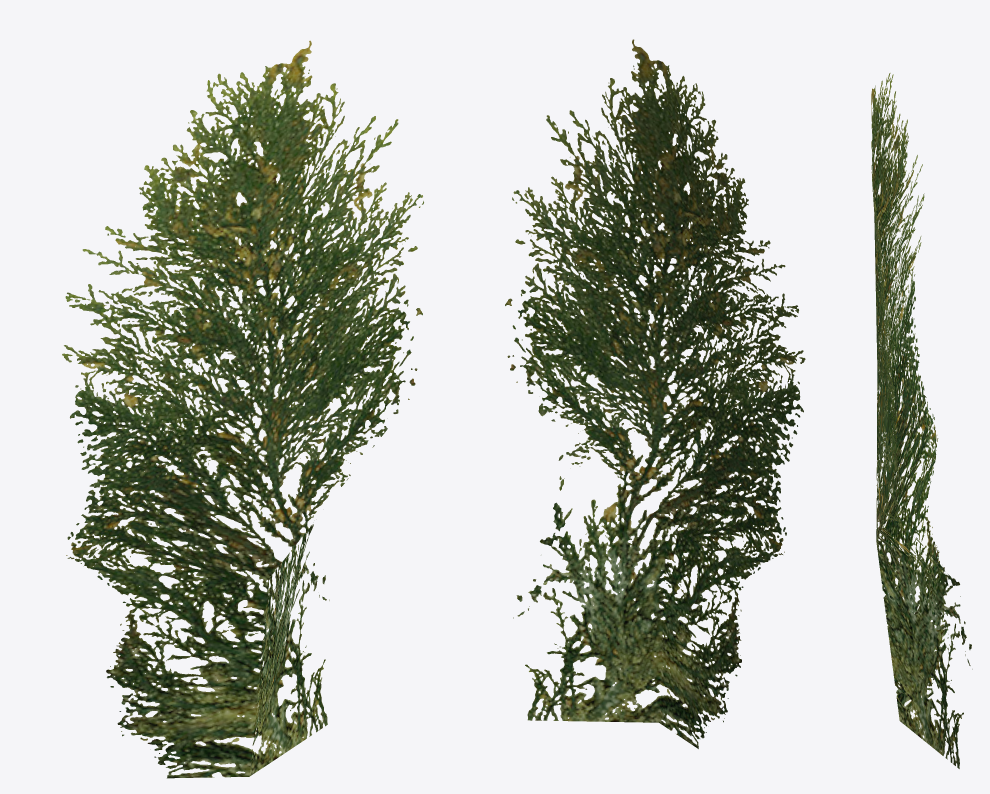
3 views of the same model, side by side, from view 1: azimuth 30°, elevation 25°; view 2: azimuth 150°, elevation 25°; view 3: azimuth 270°, elevation 25° (orthographic). The views are drawn at different scales.
Visible parts, largest first — view 1: Cystoseira; view 2: Cystoseira; view 3: Cystoseira.
Boxes of the visible parts, x1=… form: Cystoseira: x1=62, y1=40, x2=423, y2=778; Cystoseira: x1=505, y1=39, x2=805, y2=748; Cystoseira: x1=871, y1=73, x2=972, y2=768.
Bounding box in the file's own units: 0.6303 × 1.09 × 0.1567.
1 material, 1 textured.
